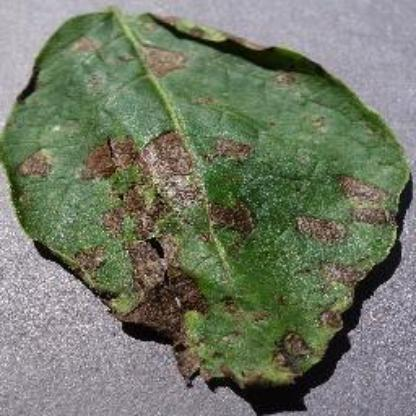Early-Blight: (3, 7, 414, 393)
